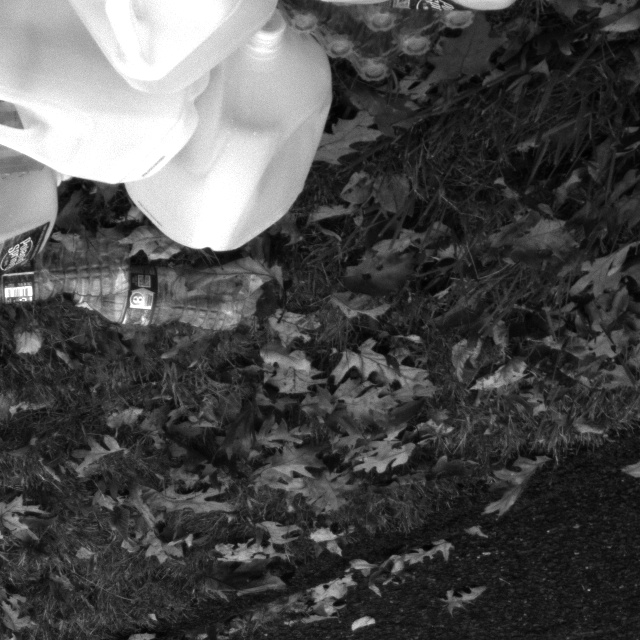bottle: (59, 263, 263, 354), (0, 232, 151, 330)
can: (117, 28, 323, 261), (0, 0, 180, 208), (51, 0, 290, 106), (0, 102, 80, 327)
container: (267, 0, 490, 108), (0, 74, 104, 199)
